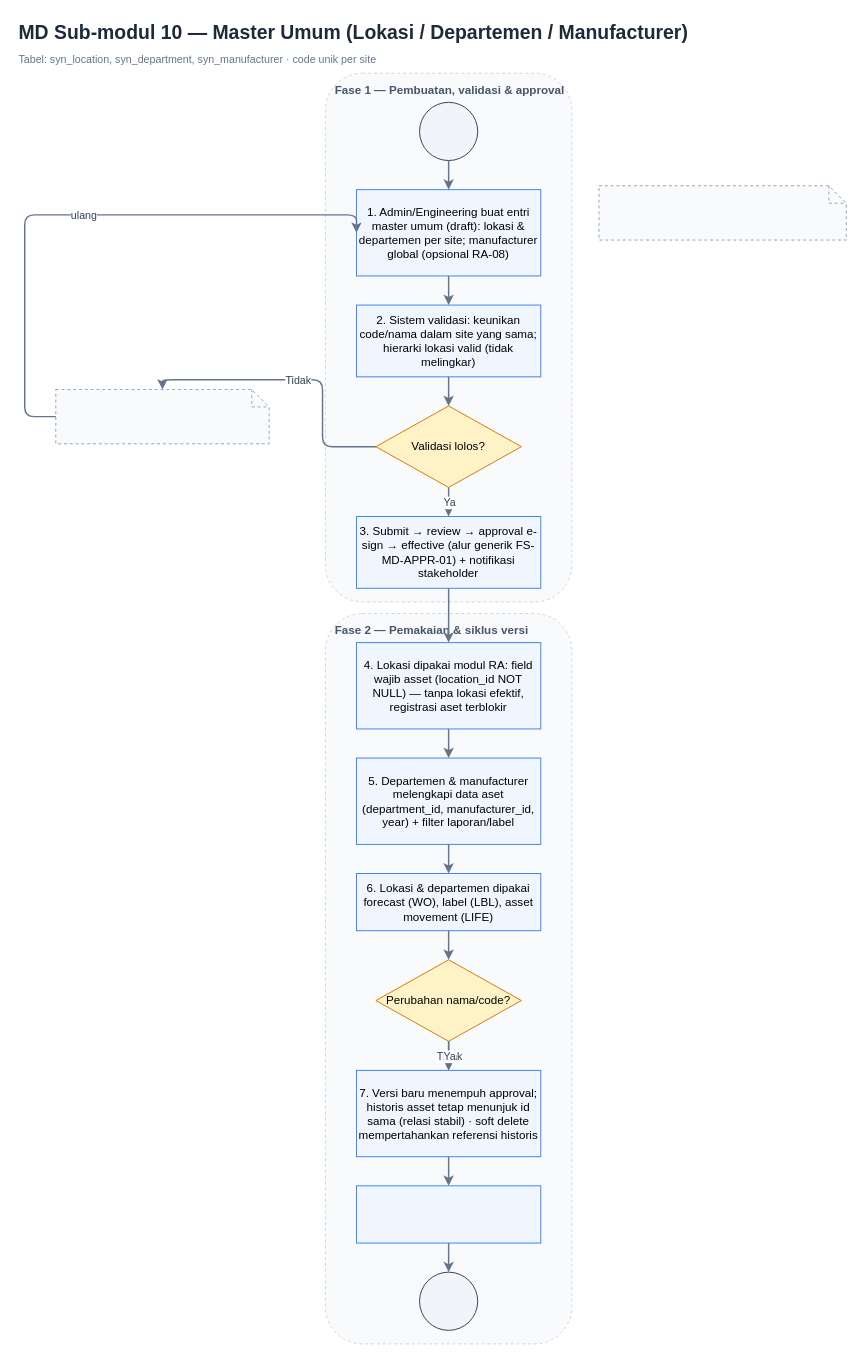
This 863x1361 diagram has some shape labels left out. Here are the shapes that lost their labels. From the top down, the centre of each, then its label:
At (x=448, y=131): "Mulai".
At (x=722, y=212): "Code unik per site · hierarki lokasi tidak melingkar".
At (x=162, y=416): "Perbaiki input".
At (x=448, y=1214): "8. Excel import/export untuk pembuatan massal saat onboarding site baru".
At (x=448, y=1300): "Selesai".
